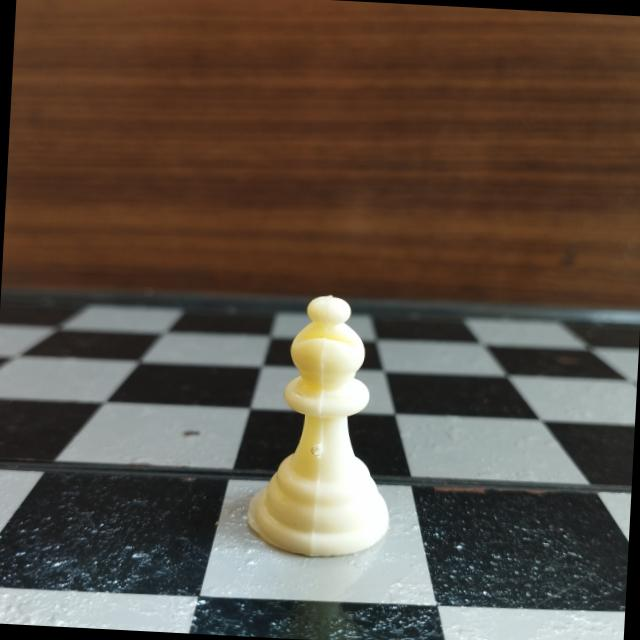White Bishop: (244, 288, 409, 566)
